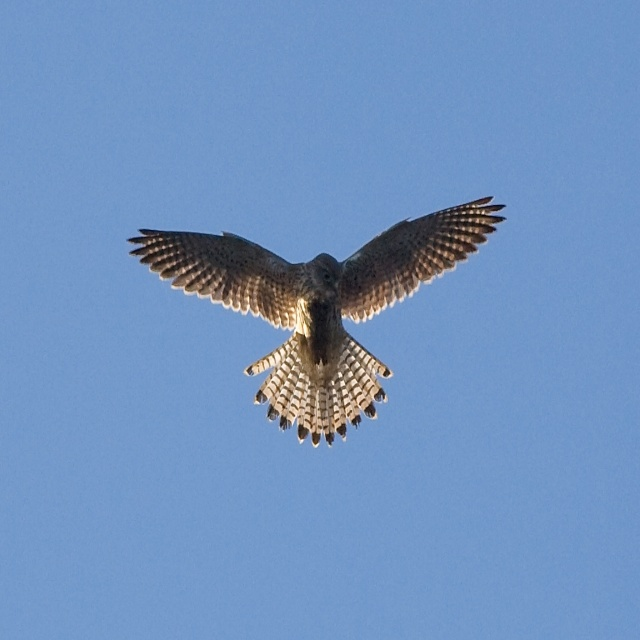Eagle: (125, 195, 508, 447)
